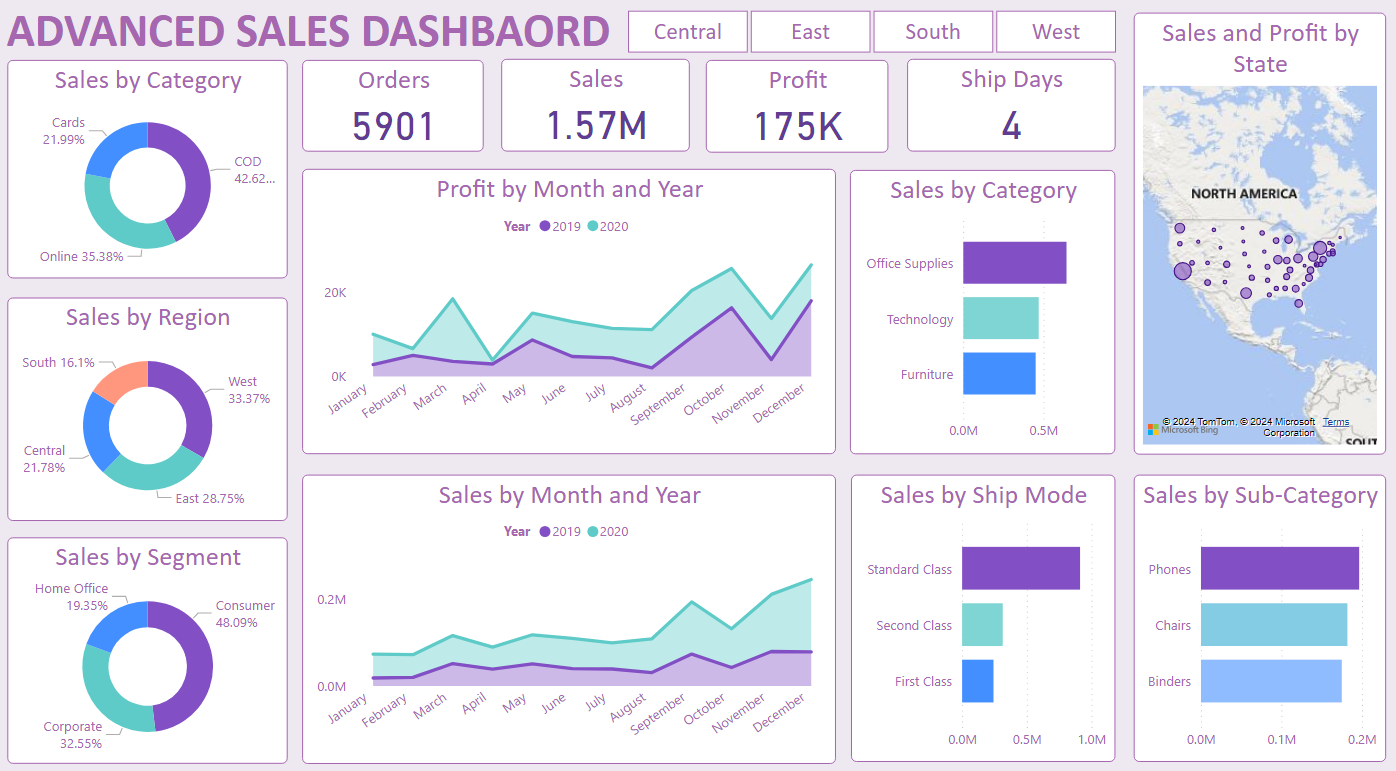

Layout of this report page (visuals, bound fields, positions):
{"tool":"powerbi","page":{"name":"Page 1","canvas":[1280,720],"ordinal":0},"visuals":[{"type":"textbox","box":[0,0,574.6,66.1],"z":0},{"type":"slicer","fields":{"Values":["Sheet1.Region"]},"box":[552.1,6.7,495.2,52.4],"z":1000},{"type":"donutChart","title":"Sales by Category","fields":{"Y":["Sum(Sheet1.Sales)"],"Category":["Sheet1.Payment Mode"]},"box":[13.4,59.4,255.4,199.4],"z":2000},{"type":"donutChart","title":"Sales by Segment","fields":{"Y":["Sum(Sheet1.Sales)"],"Category":["Sheet1.Segment"]},"box":[13.4,494,255.4,206.1],"z":3000},{"type":"donutChart","title":"Sales by Region","fields":{"Y":["Sum(Sheet1.Sales)"],"Category":["Sheet1.Region"]},"box":[13.4,275.6,255.4,203.9],"z":4000},{"type":"card","title":"Orders","fields":{"Values":["CountNonNull(Sheet1.Order ID)"]},"box":[281.2,59.4,165.8,84],"z":5000},{"type":"card","title":"Ship Days","fields":{"Values":["Avg(Sheet1.ShipDay)"]},"box":[833.1,58,189.6,84.8],"z":6000},{"type":"card","title":"Profit","fields":{"Values":["Sum(Sheet1.Profit)"]},"box":[649.1,59.1,166.2,84.8],"z":7000},{"type":"card","title":"Sales","fields":{"Values":["Sum(Sheet1.Sales)"]},"box":[462.8,58,171.7,84.8],"z":8000},{"type":"clusteredBarChart","title":"Sales by Category","fields":{"Category":["Sheet1.Category"],"Y":["Sum(Sheet1.Sales)"]},"box":[780.7,159.5,242,258.7],"z":9000},{"type":"clusteredBarChart","title":"Sales by Ship Mode","fields":{"Category":["Sheet1.Ship Mode"],"Y":["Sum(Sheet1.Sales)"]},"box":[781.9,436.9,240.8,262.1],"z":10000},{"type":"clusteredBarChart","title":"Sales by Sub-Category","fields":{"Category":["Sheet1.Sub-Category"],"Y":["Sum(Sheet1.Sales)"]},"box":[1039.4,437.2,229.7,262.1],"z":11000},{"type":"stackedAreaChart","title":"Sales by Month and Year","fields":{"Category":["Sheet1.Order Date.Variation.Date Hierarchy.Month"],"Y":["Sum(Sheet1.Sales)"],"Series":["Sheet1.Order Date.Variation.Date Hierarchy.Year"]},"box":[281.2,436.9,486.1,263.2],"z":12000},{"type":"stackedAreaChart","title":"Profit by Month and Year","fields":{"Category":["Sheet1.Order Date.Variation.Date Hierarchy.Month"],"Series":["Sheet1.Order Date.Variation.Date Hierarchy.Year"],"Y":["Sum(Sheet1.Profit)"]},"box":[281.2,157.9,486.1,259.9],"z":13000},{"type":"map","title":"Sales and Profit by State","fields":{"Category":["Sheet1.State"],"Size":["Sum(Sheet1.Sales)"]},"box":[1039.4,15.6,229.7,402.6],"z":14000},{"type":"qnaVisual","box":[649.1,418.2,166.2,150],"z":14001}]}

Visuals, with their boxes in screenshot pixels (x1, y1, x2, y2), scaled from the page's 1280x720 canvas onto the 1396x771 screenshot:
textbox: (left=0, top=0, right=627, bottom=71)
slicer - Sheet1.Region: (left=602, top=7, right=1142, bottom=63)
"Sales by Category" donutChart: (left=15, top=64, right=293, bottom=277)
"Sales by Segment" donutChart: (left=15, top=529, right=293, bottom=750)
"Sales by Region" donutChart: (left=15, top=295, right=293, bottom=513)
"Orders" card: (left=307, top=64, right=488, bottom=154)
"Ship Days" card: (left=909, top=62, right=1115, bottom=153)
"Profit" card: (left=708, top=63, right=889, bottom=154)
"Sales" card: (left=505, top=62, right=692, bottom=153)
"Sales by Category" clusteredBarChart: (left=851, top=171, right=1115, bottom=448)
"Sales by Ship Mode" clusteredBarChart: (left=853, top=468, right=1115, bottom=749)
"Sales by Sub-Category" clusteredBarChart: (left=1134, top=468, right=1384, bottom=749)
"Sales by Month and Year" stackedAreaChart: (left=307, top=468, right=837, bottom=750)
"Profit by Month and Year" stackedAreaChart: (left=307, top=169, right=837, bottom=447)
"Sales and Profit by State" map: (left=1134, top=17, right=1384, bottom=448)
qnaVisual: (left=708, top=448, right=889, bottom=608)
